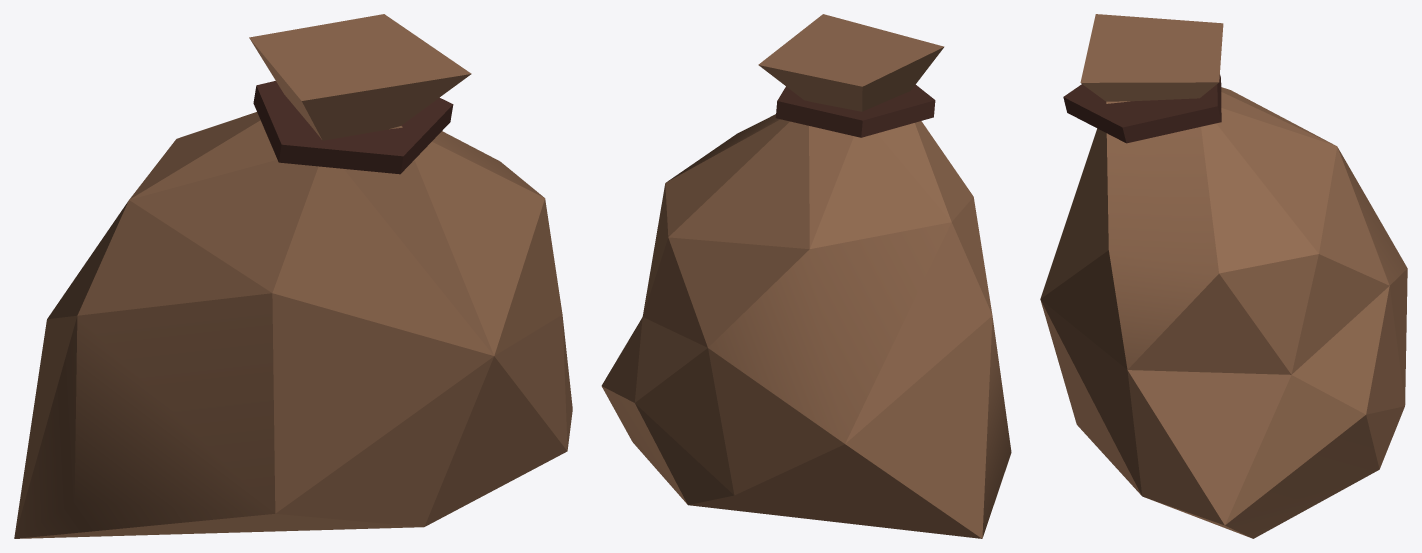
The model's file is Sack3.fbx.
3 renders of one model, left to right at view 1: azimuth 30°, elevation 25°; view 2: azimuth 150°, elevation 25°; view 3: azimuth 270°, elevation 25°, orthographic. The views are drawn at different scales.
Visible parts, largest first — view 1: Sack3; view 2: Sack3; view 3: Sack3.
Boxes of the visible parts, left/top/right/bottom form: Sack3: left=14, top=14, right=572, bottom=538; Sack3: left=601, top=14, right=1011, bottom=538; Sack3: left=1040, top=14, right=1407, bottom=538.
Size of the model in its own units: 0.3253 by 0.2433 by 0.31.
